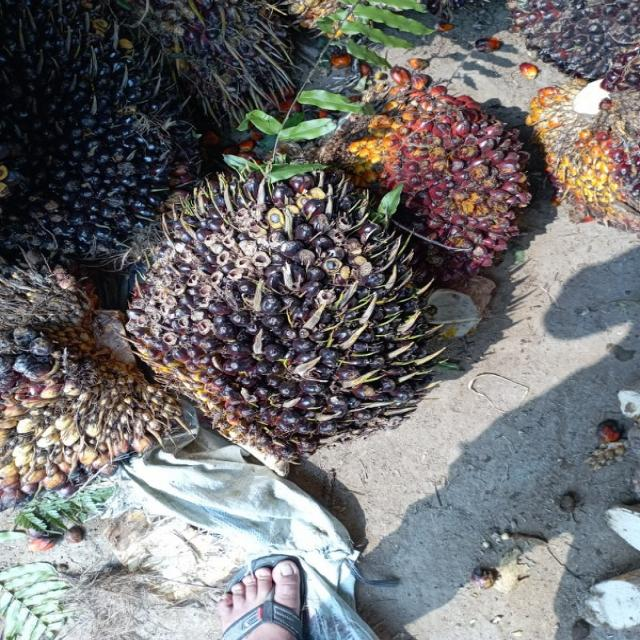fraksi 00: (128, 168, 427, 456), (0, 28, 187, 273)
fraksi 1: (315, 64, 547, 266)
